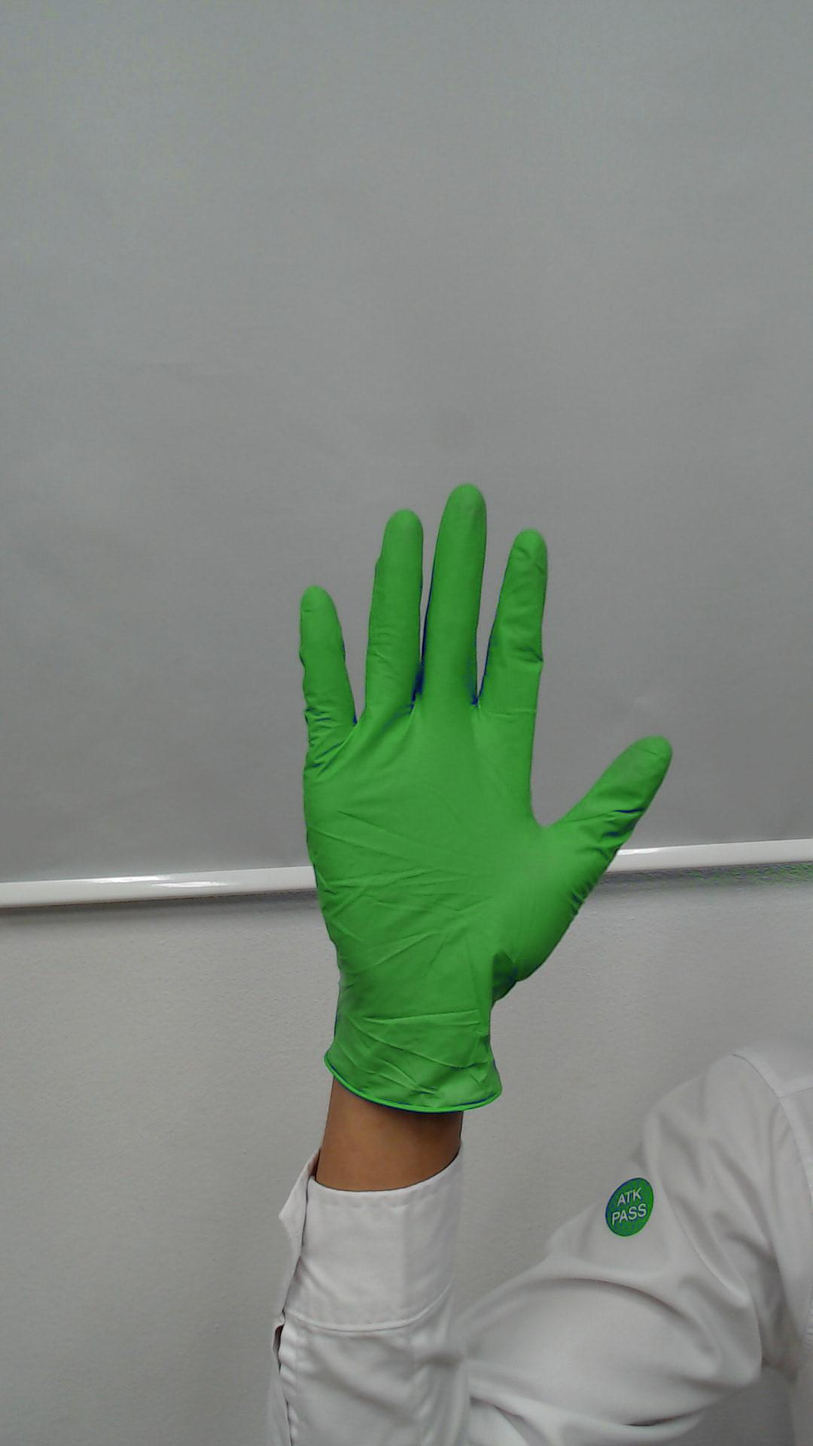gloves: (287, 471, 686, 998)
